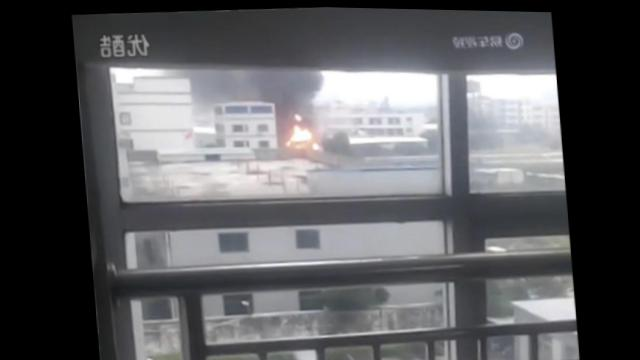fire: (288, 123, 312, 141), (293, 110, 303, 119)
